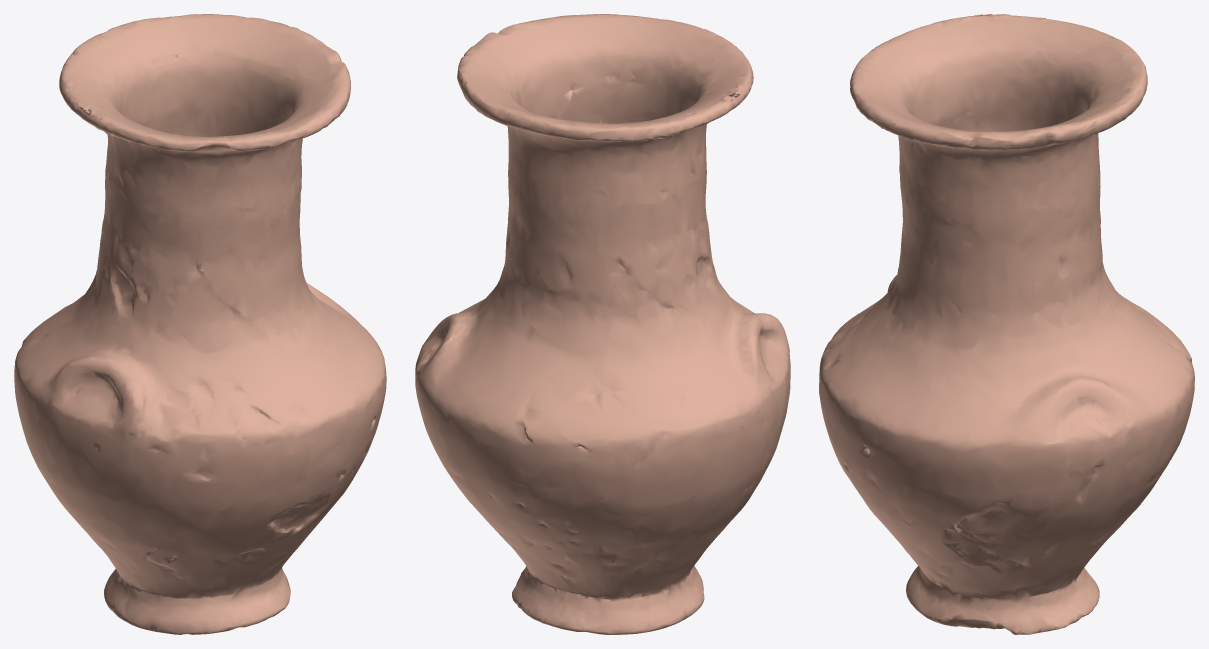
Rendered from wc-geto-dacian-biconical-vessel.glb.
3 renders of one model, left to right at view 1: azimuth 30°, elevation 25°; view 2: azimuth 150°, elevation 25°; view 3: azimuth 270°, elevation 25°, orthographic.
Parts seen in each view (by area): view 1: wc-geto-dacian-biconical-vessel; view 2: wc-geto-dacian-biconical-vessel; view 3: wc-geto-dacian-biconical-vessel.
Part boxes in pixels (x1,y1,x2,y2): wc-geto-dacian-biconical-vessel: (14,14,386,634); wc-geto-dacian-biconical-vessel: (415,14,790,634); wc-geto-dacian-biconical-vessel: (819,14,1194,634).
Size of the model in its own units: 0.1923 by 0.3 by 0.1928.
